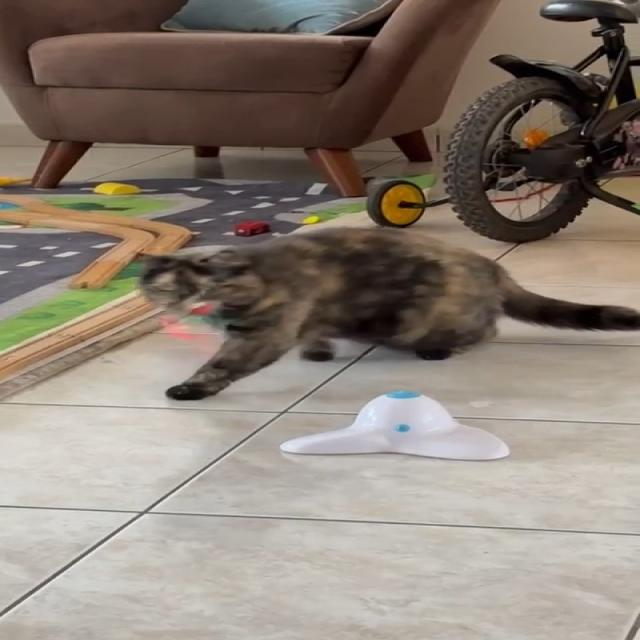authorized: (136, 225, 639, 401)
